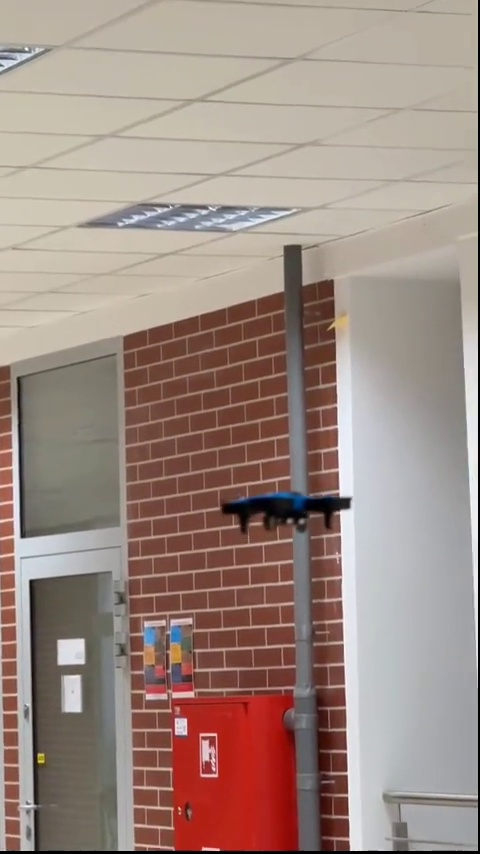drone: (223, 493, 352, 534)
